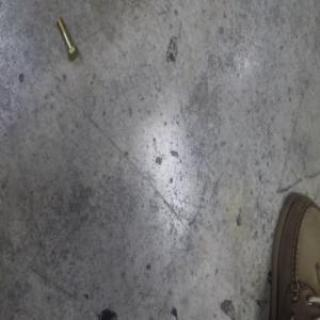Bolttrack_idkeyframe: (56, 14, 78, 62)
